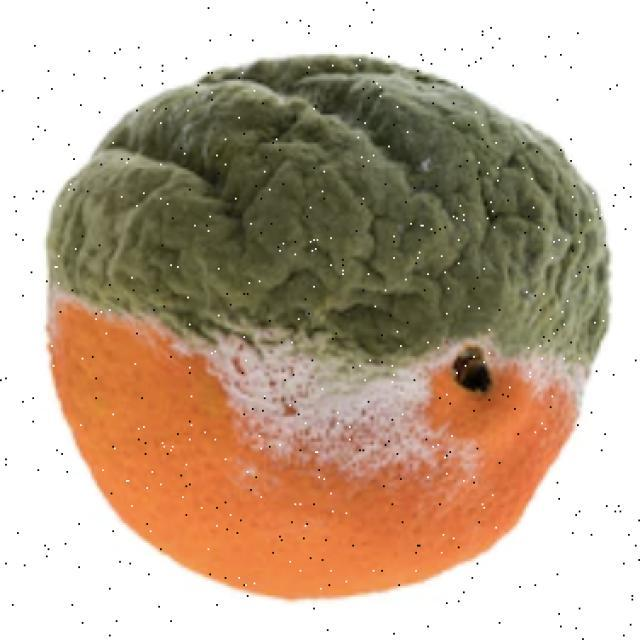sangat-busuk: (48, 56, 609, 594)
